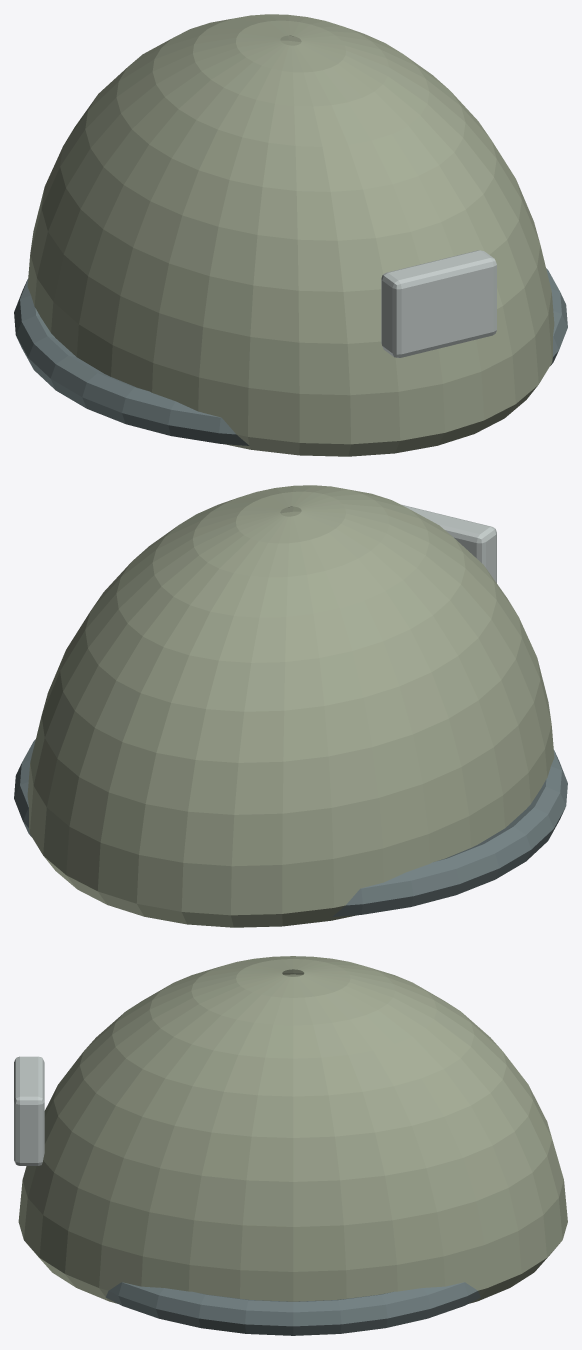
3 renders of one model, top to bottom at view 1: azimuth 30°, elevation 25°; view 2: azimuth 150°, elevation 25°; view 3: azimuth 270°, elevation 25°, orthographic. The views are drawn at different scales.
Parts seen in each view (by area): view 1: hollow helmet, protective rim, front mount; view 2: hollow helmet, protective rim, front mount; view 3: hollow helmet, protective rim, front mount.
Boxes of the visible parts, x1=… form: hollow helmet: x1=27, y1=14, x2=554, y2=456; protective rim: x1=14, y1=268, x2=567, y2=445; front mount: x1=381, y1=250, x2=496, y2=357; hollow helmet: x1=27, y1=485, x2=554, y2=927; protective rim: x1=14, y1=739, x2=567, y2=916; front mount: x1=400, y1=504, x2=496, y2=582; hollow helmet: x1=18, y1=956, x2=567, y2=1303; protective rim: x1=105, y1=1282, x2=480, y2=1335; front mount: x1=14, y1=1056, x2=44, y2=1165.
Size of the model in its own units: 0.324 by 0.1919 by 0.363.
